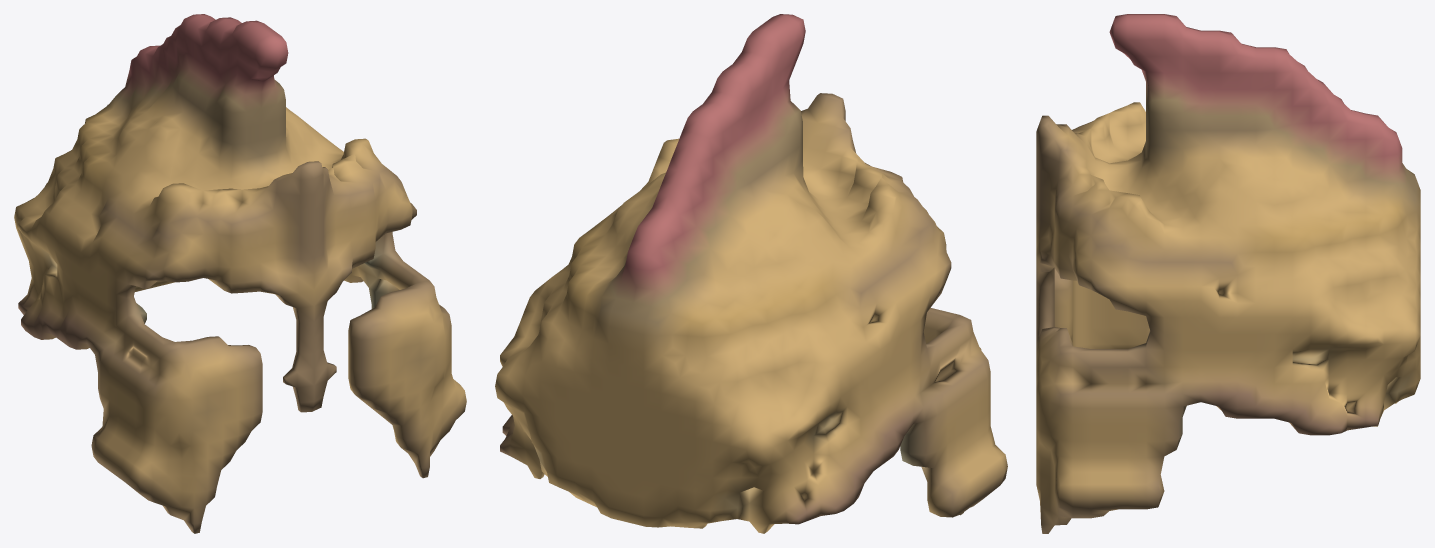
3 renders of one model, left to right at view 1: azimuth 30°, elevation 25°; view 2: azimuth 150°, elevation 25°; view 3: azimuth 270°, elevation 25°, orthographic. The views are drawn at different scales.
Size of the model in its own units: 1.1 by 1.38 by 1.05.
